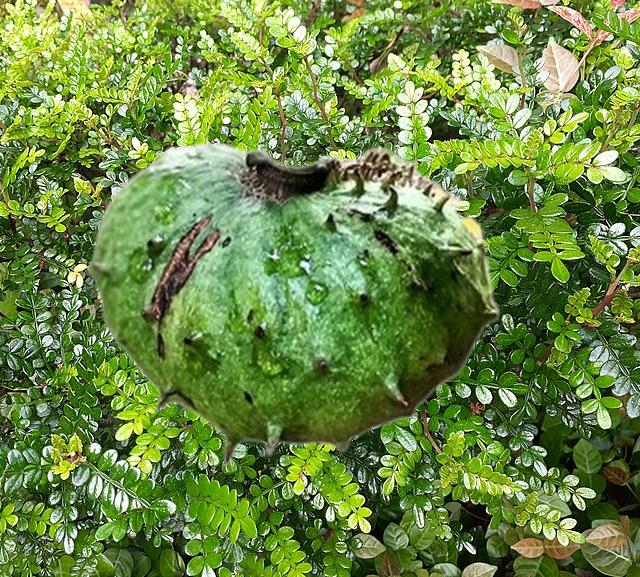guyabano: (86, 141, 500, 467)
